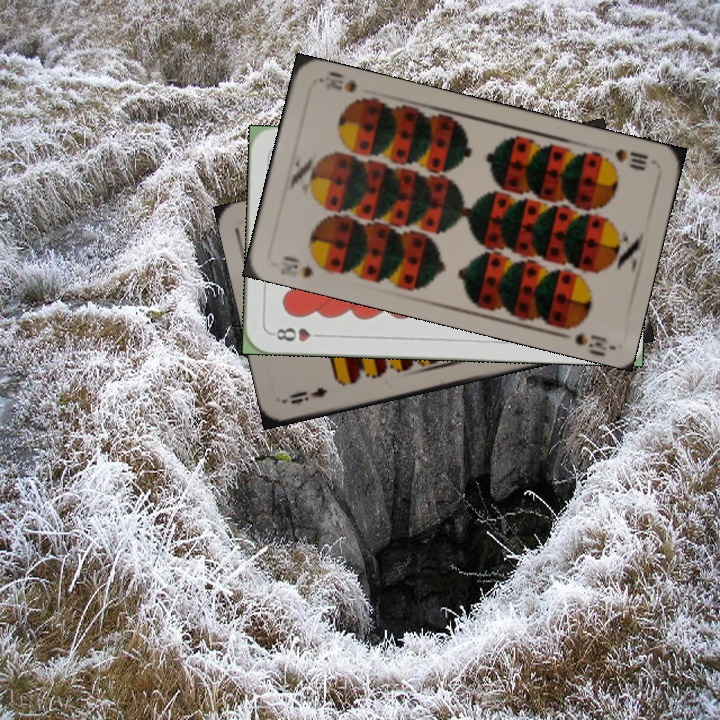E9: (286, 383, 330, 407)
H8: (268, 324, 327, 344)
S10: (276, 251, 331, 280), (610, 144, 651, 174)
